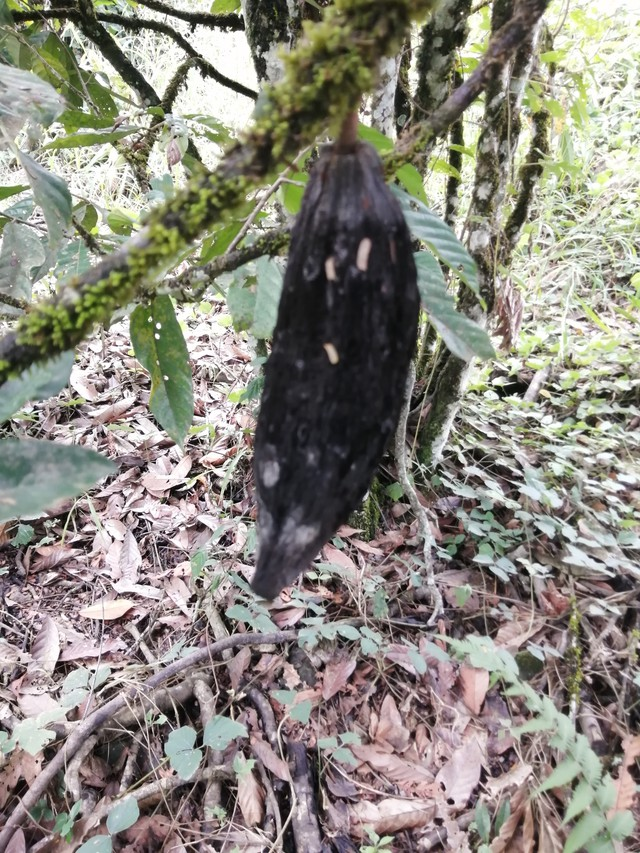phytophthora palmivora: (223, 132, 439, 612)
